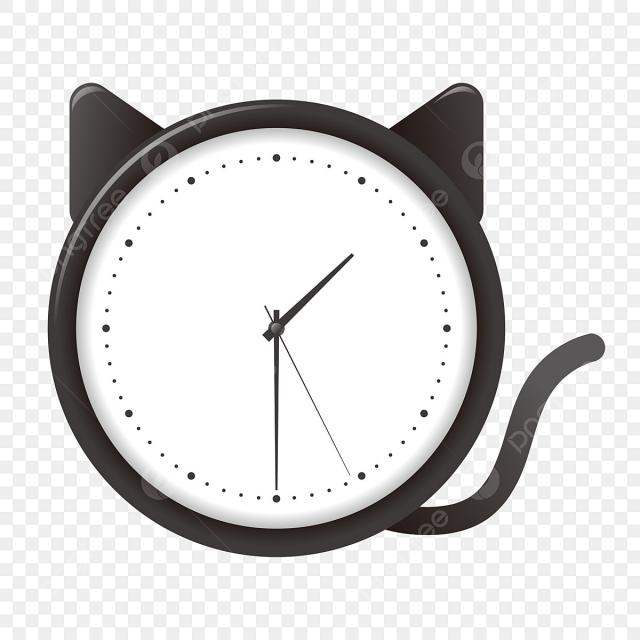clock: (51, 98, 594, 602)
